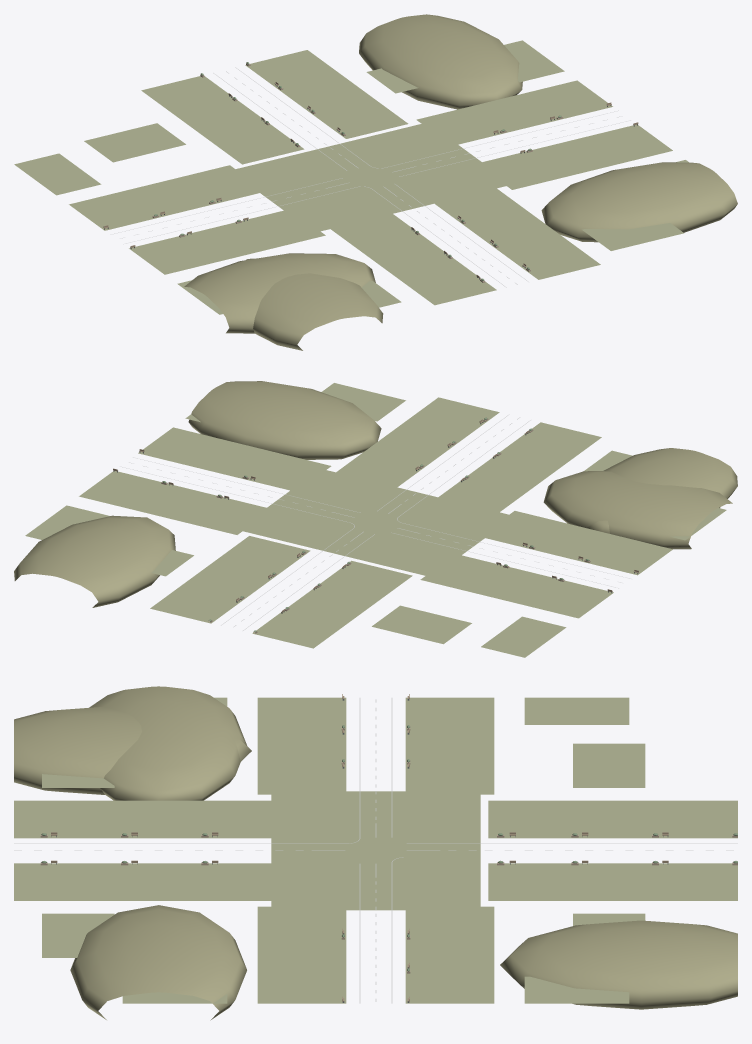
3 views of the same model, one above another, from view 1: azimuth 30°, elevation 25°; view 2: azimuth 150°, elevation 25°; view 3: azimuth 270°, elevation 25° (orthographic). The views are drawn at different scales.
Parts seen in each view (by area): view 1: static; view 2: static; view 3: static.
Boxes of the visible parts, x1=… form: static: x1=14, y1=14, x2=737, y2=350; static: x1=14, y1=381, x2=737, y2=657; static: x1=14, y1=686, x2=737, y2=1020.
Size of what is drawn, in the model's own units: 180 by 14.08 by 180.
